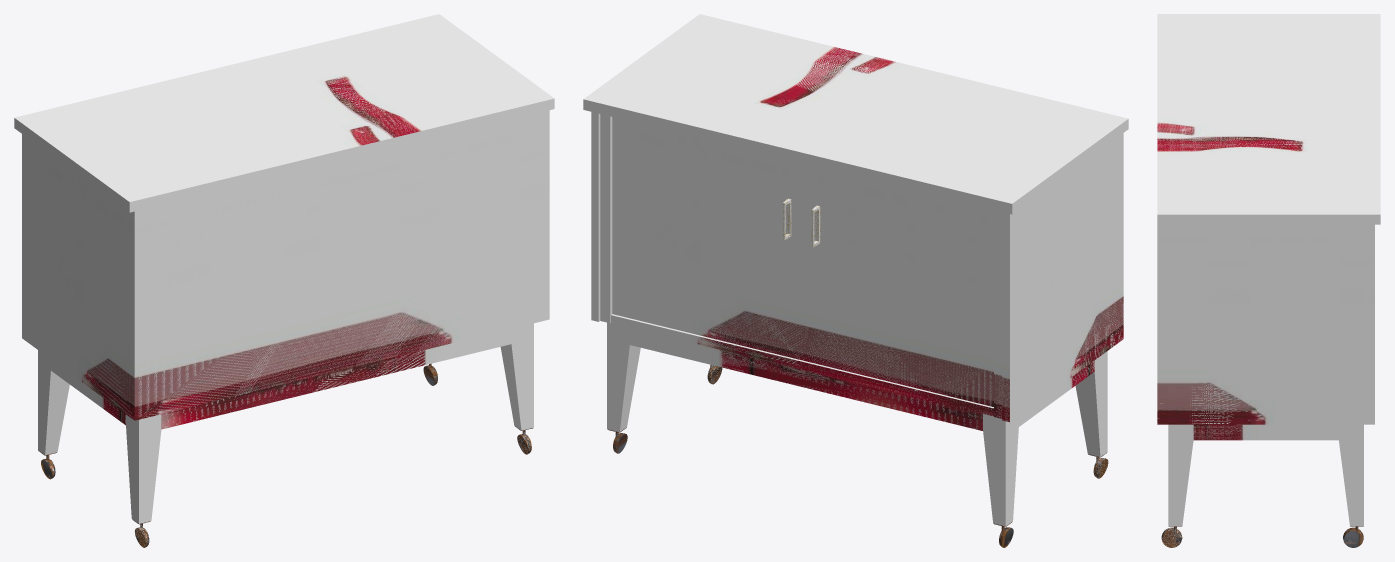
The picture shows the model from 3 angles, left to right: view 1: azimuth 30°, elevation 25°; view 2: azimuth 150°, elevation 25°; view 3: azimuth 270°, elevation 25°; orthographic projection. The views are drawn at different scales.
Parts seen in each view (by area): view 1: mesh4_mesh4-geometry, mesh1_mesh1-geometry; view 2: mesh4_mesh4-geometry, mesh1_mesh1-geometry; view 3: mesh4_mesh4-geometry, mesh1_mesh1-geometry, mesh10_mesh10-geometry, mesh6_mesh6-geometry.
Part boxes in pixels (x1,y1,x2,y2): mesh4_mesh4-geometry: (14,14,554,429); mesh1_mesh1-geometry: (38,323,533,523); mesh4_mesh4-geometry: (583,14,1128,436); mesh1_mesh1-geometry: (983,351,1107,526); mesh4_mesh4-geometry: (1157,14,1380,534); mesh1_mesh1-geometry: (1168,424,1193,526); mesh10_mesh10-geometry: (1343,527,1363,547); mesh6_mesh6-geometry: (1161,527,1182,547).
Size of the model in its own units: 0.7333 by 0.5859 by 0.3451.
